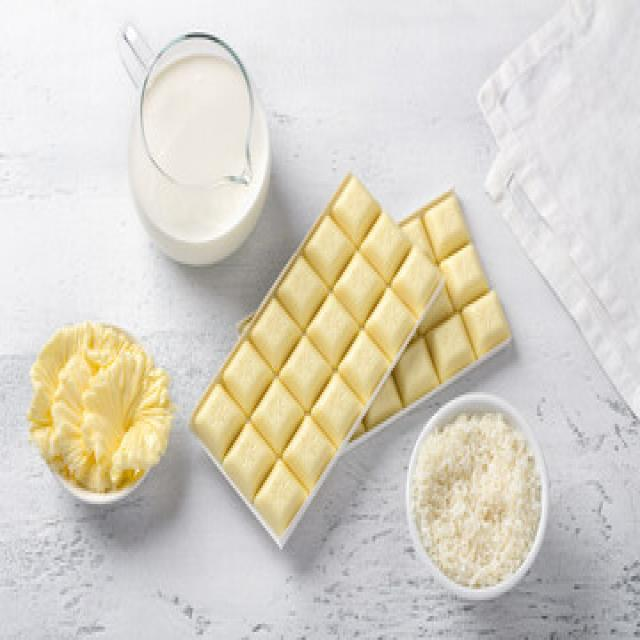Chocolate: (187, 173, 446, 552), (340, 191, 511, 447)
